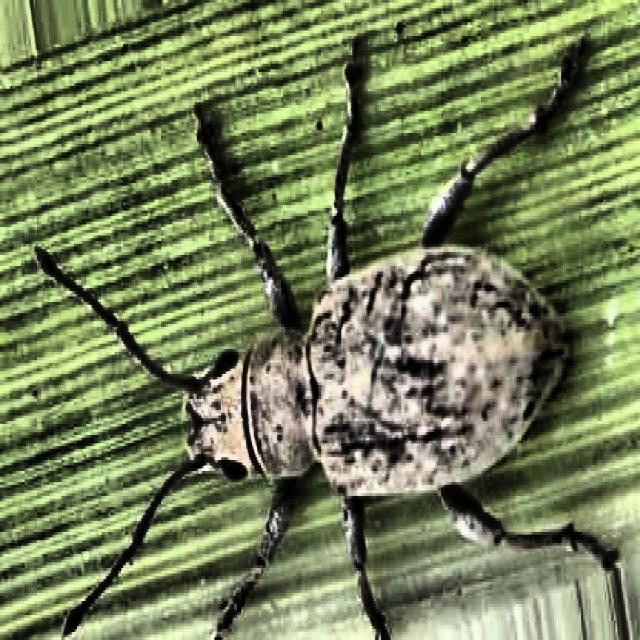Stink bug: (91, 156, 589, 599)
